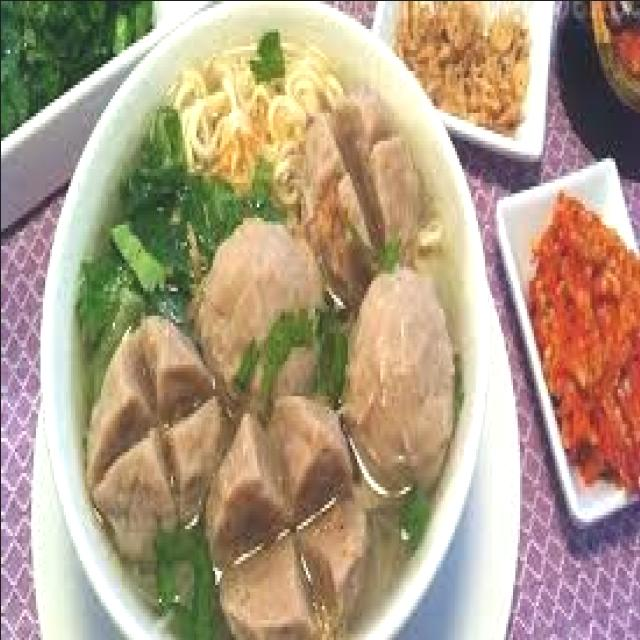bakso: (48, 51, 466, 640)
